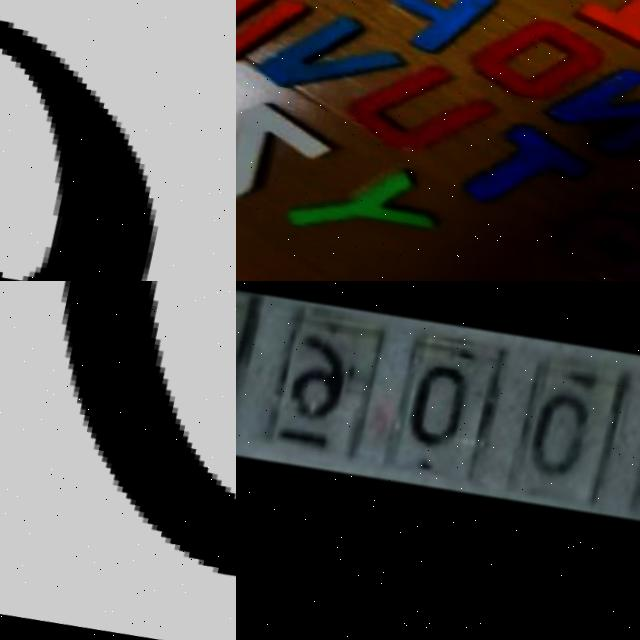0: (526, 390, 606, 492), (402, 360, 478, 461)
2: (0, 0, 216, 281)
6: (281, 322, 366, 431)
I: (570, 0, 640, 71)
N: (540, 56, 640, 173)
O: (56, 281, 236, 585), (467, 7, 605, 117)
P: (386, 0, 490, 65)
S: (544, 181, 640, 281)
T: (460, 114, 588, 226)
U: (337, 49, 498, 173)
V: (255, 3, 398, 118)
W: (236, 0, 309, 70)
Y: (278, 152, 433, 252)
Z: (236, 81, 339, 219)
